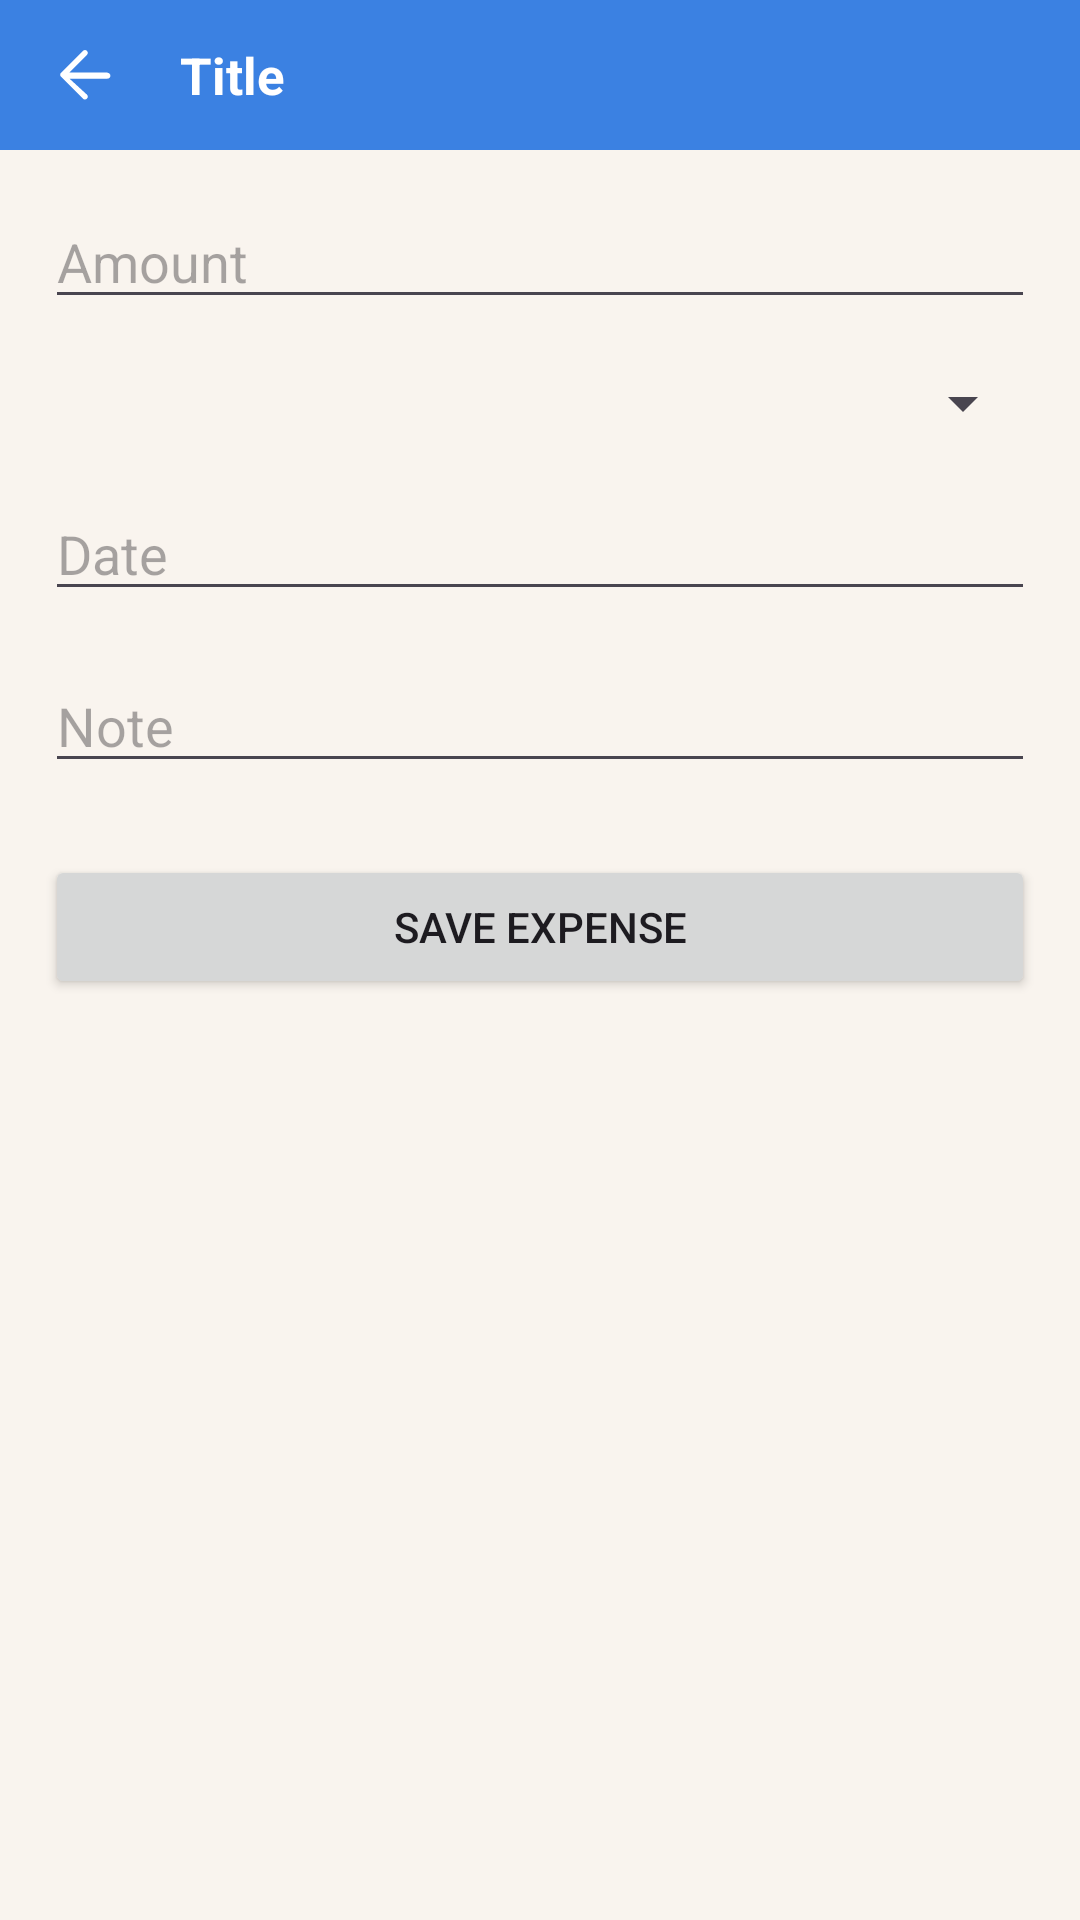

Point at icon controls on the screen. Image size 1080px×1920px, points as (x,y).
Back: (85,75)
